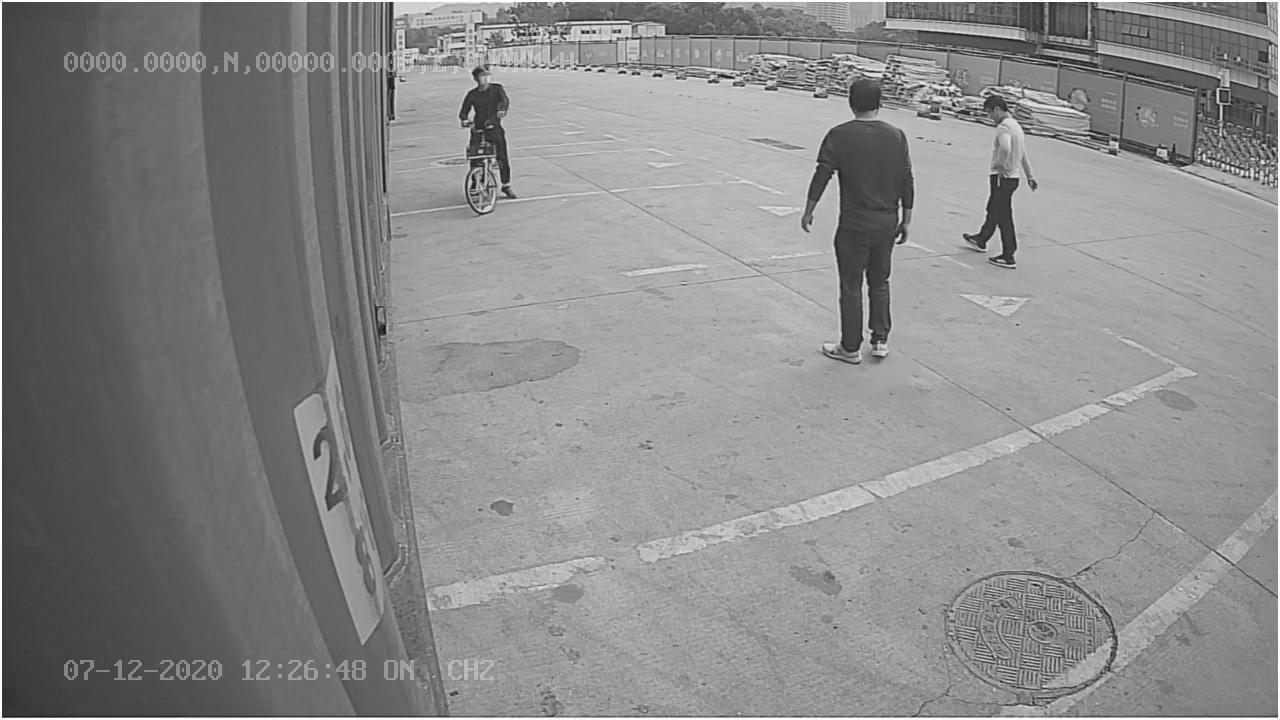person: (796, 76, 922, 364)
